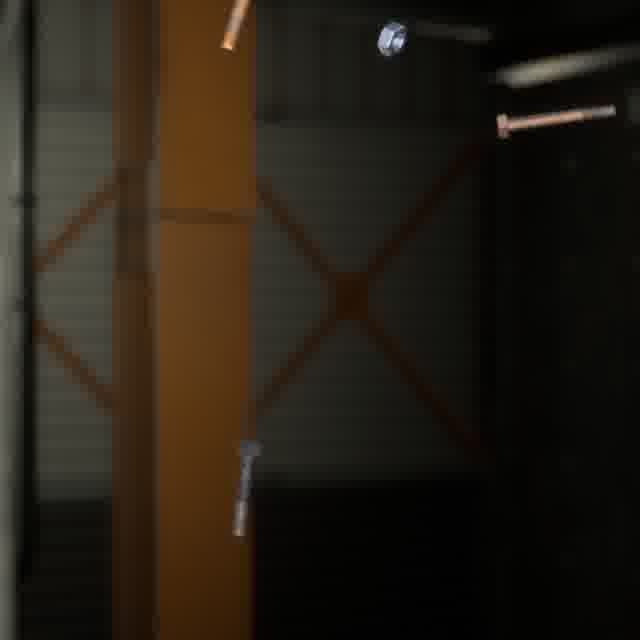bolt: (491, 100, 620, 142), (227, 435, 266, 541), (215, 0, 255, 60)
nut: (373, 17, 411, 61)
